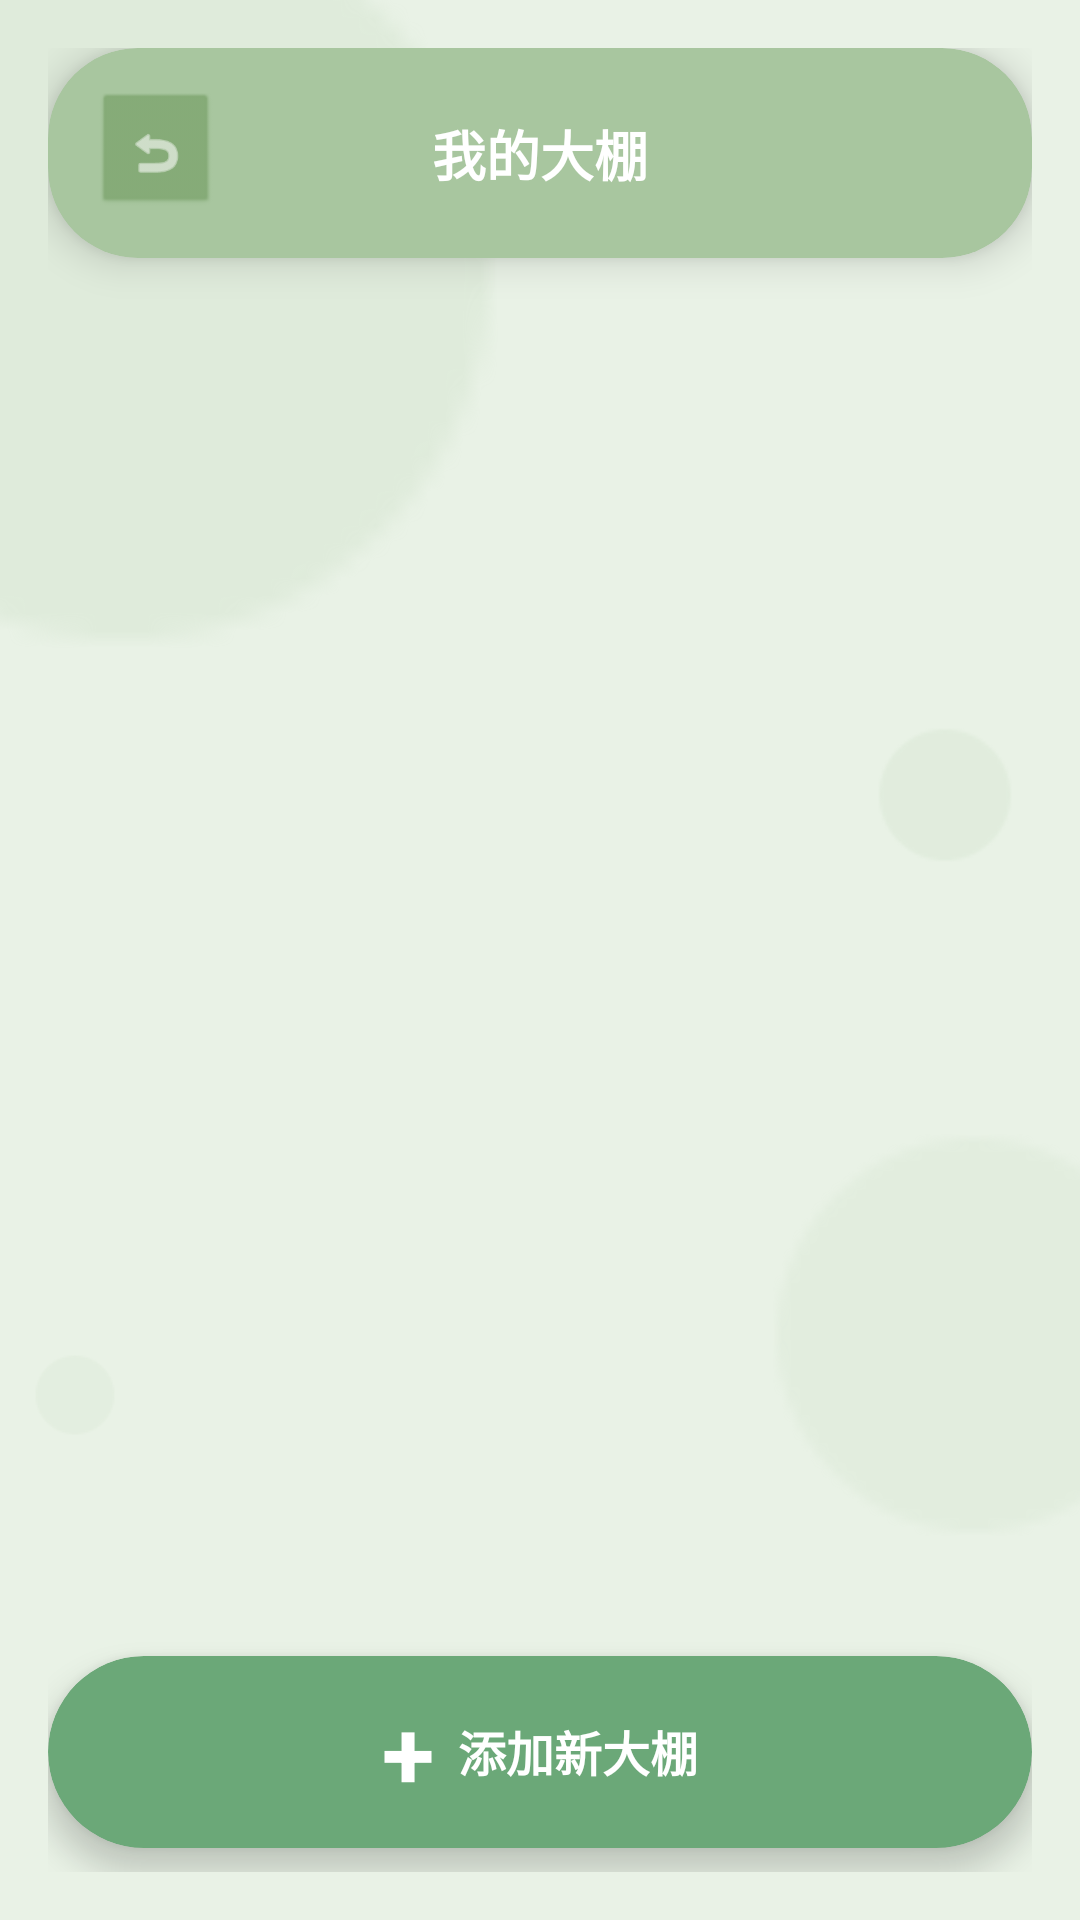

Screen size 1080 x 1920. Icon name, then its box in pixels as box(x1, y1, x2, y2):
revert: box(103, 95, 208, 200)
